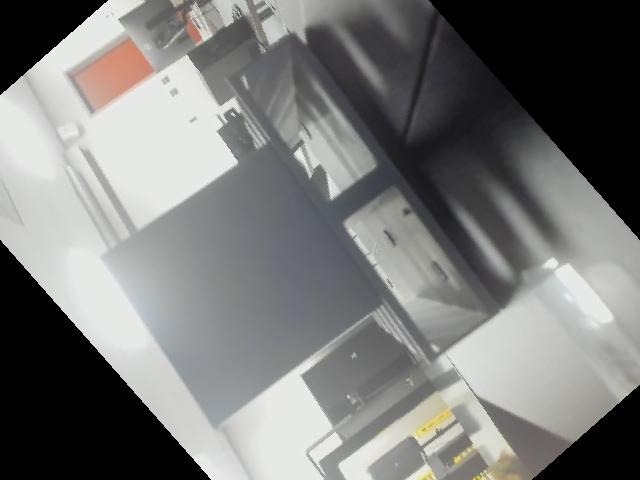grey pallet: (69, 28, 534, 451)
